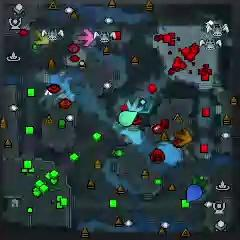p1: (186, 183, 202, 202)
p2: (119, 111, 137, 127)
x1: (76, 29, 94, 46)
x2: (35, 30, 50, 45)
x3: (125, 98, 143, 113)
x4: (190, 175, 208, 192)
x5: (175, 129, 191, 146)
